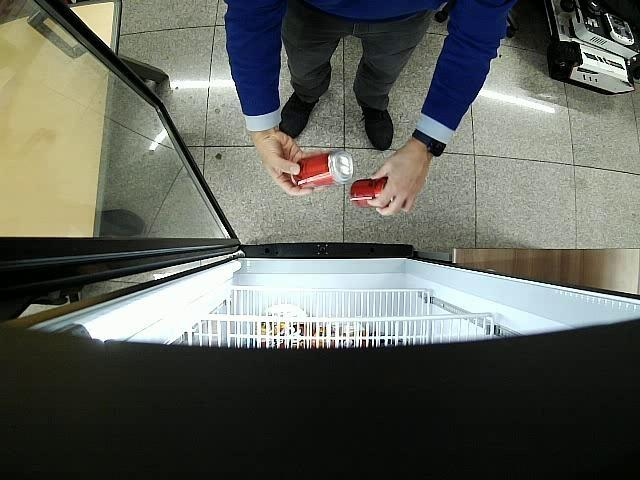11_cocaColaZero: (291, 152, 354, 188), (350, 177, 388, 208)
